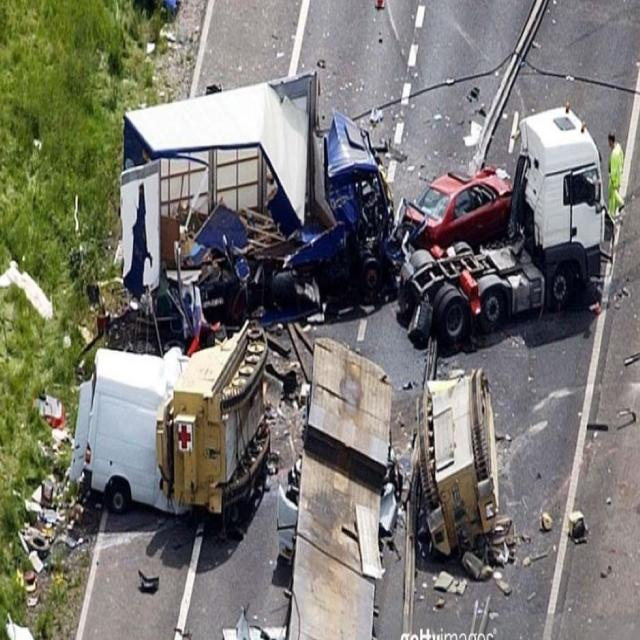traffic_incident: (117, 63, 402, 316), (63, 317, 270, 531), (280, 322, 398, 639), (410, 366, 509, 555), (389, 120, 517, 252)
